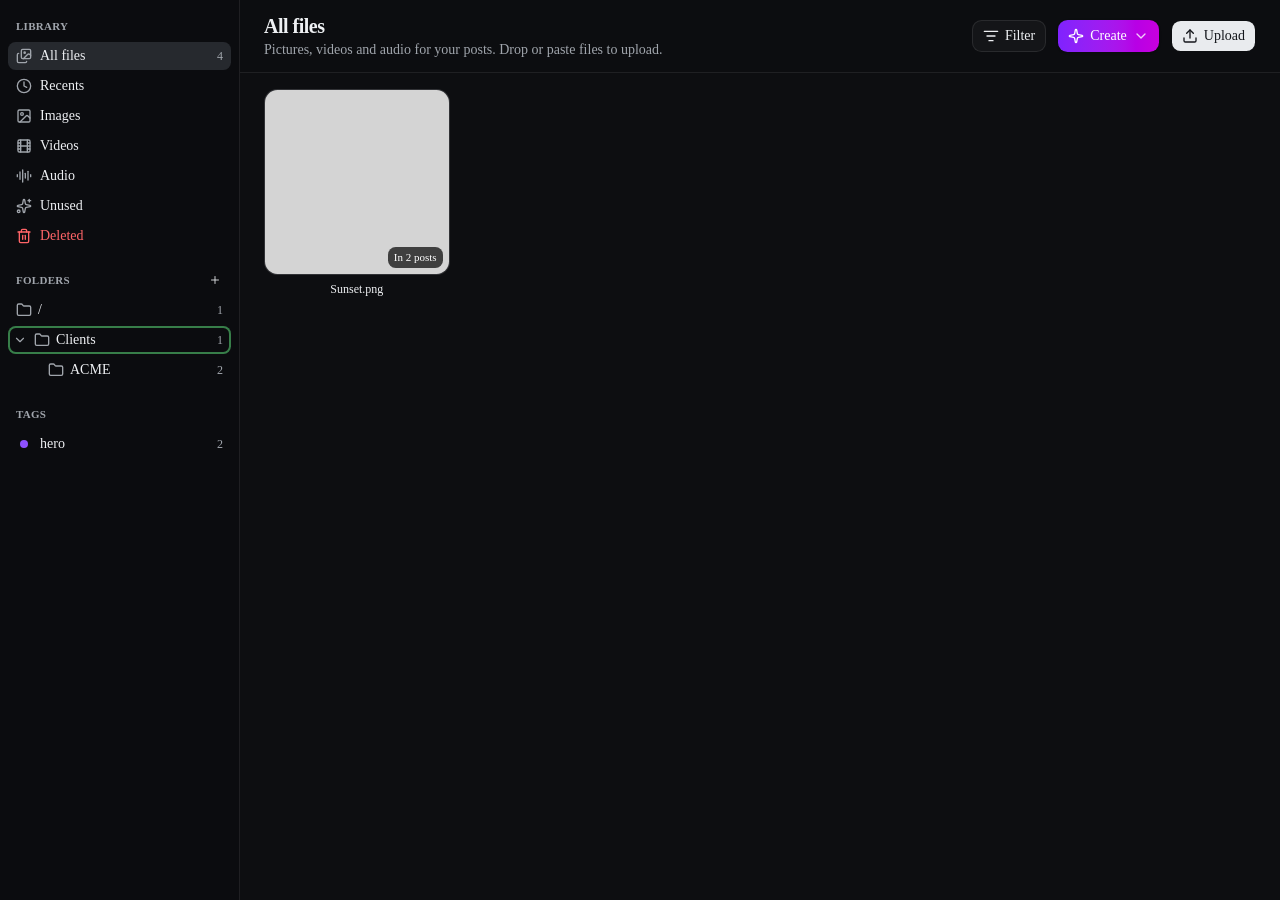
Test: media folders and tags › shows the folder tree, opens and closes it from the keyboard, filters by folder and tag
Press Arrowleft
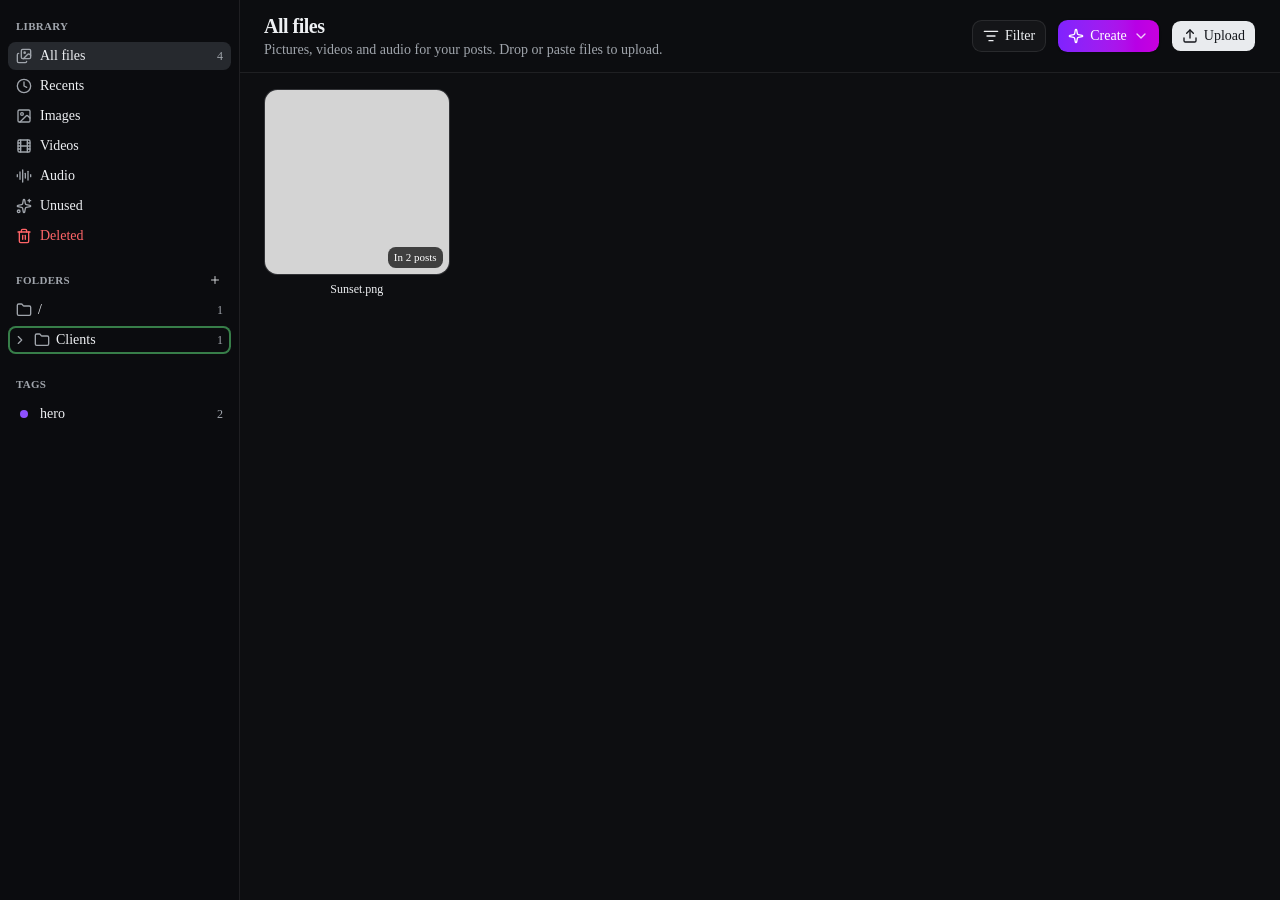
Expected: the list item "Clients 1" is collapsed, top-left (8, 326), bottom-right (231, 354)
Expected: the text "ACME" is gone
Press Arrowright Arrowdown Enter
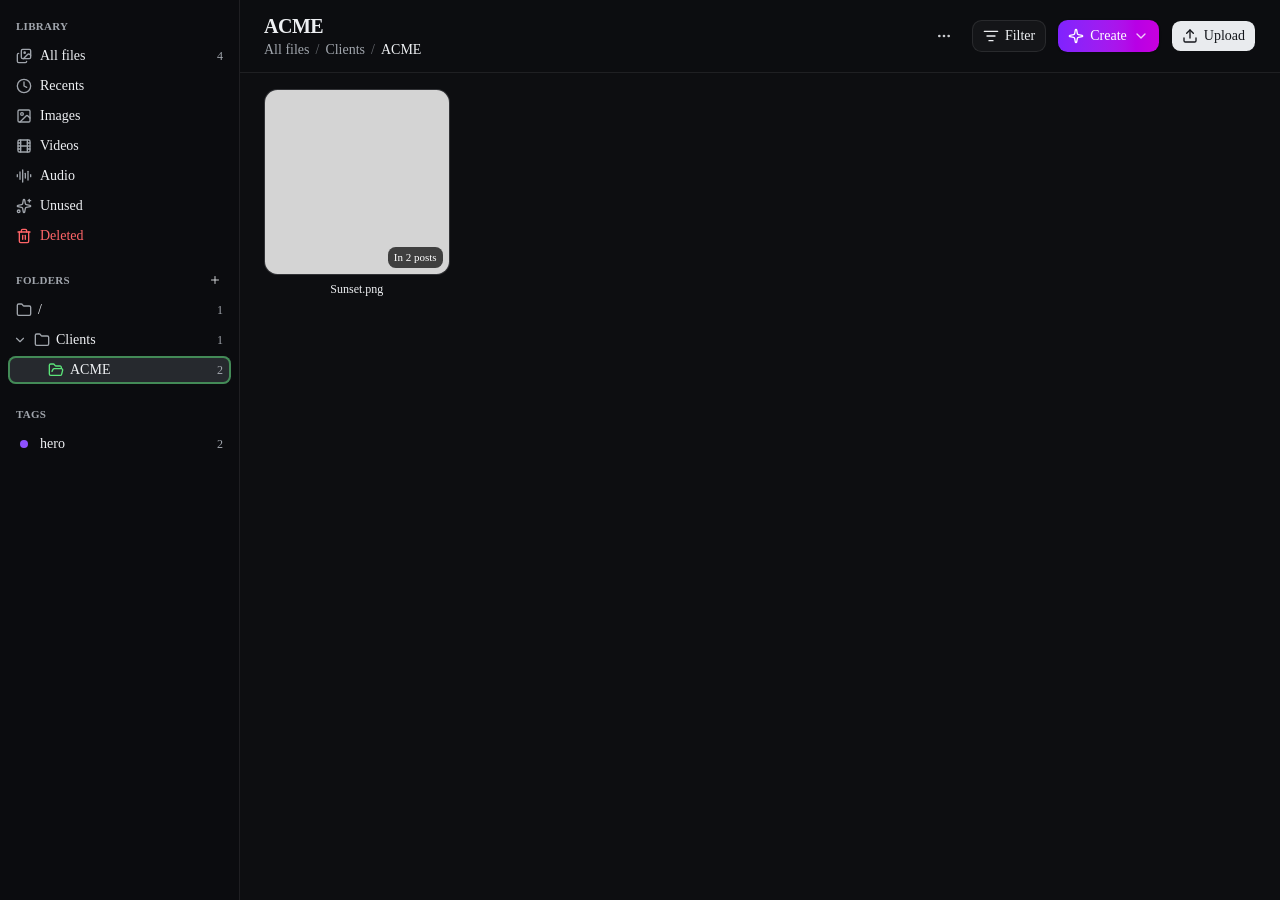
Expected: the button "All files" is shown, top-left (264, 40), bottom-right (310, 60)
Expected: the heading with test id "media-place" reads "ACME", top-left (264, 15), bottom-right (323, 37)
Expected: the button "Clients" is shown, top-left (325, 40), bottom-right (365, 60)
Click the button "hero 2": x=120, y=444 top-left (8, 430), bottom-right (231, 458)
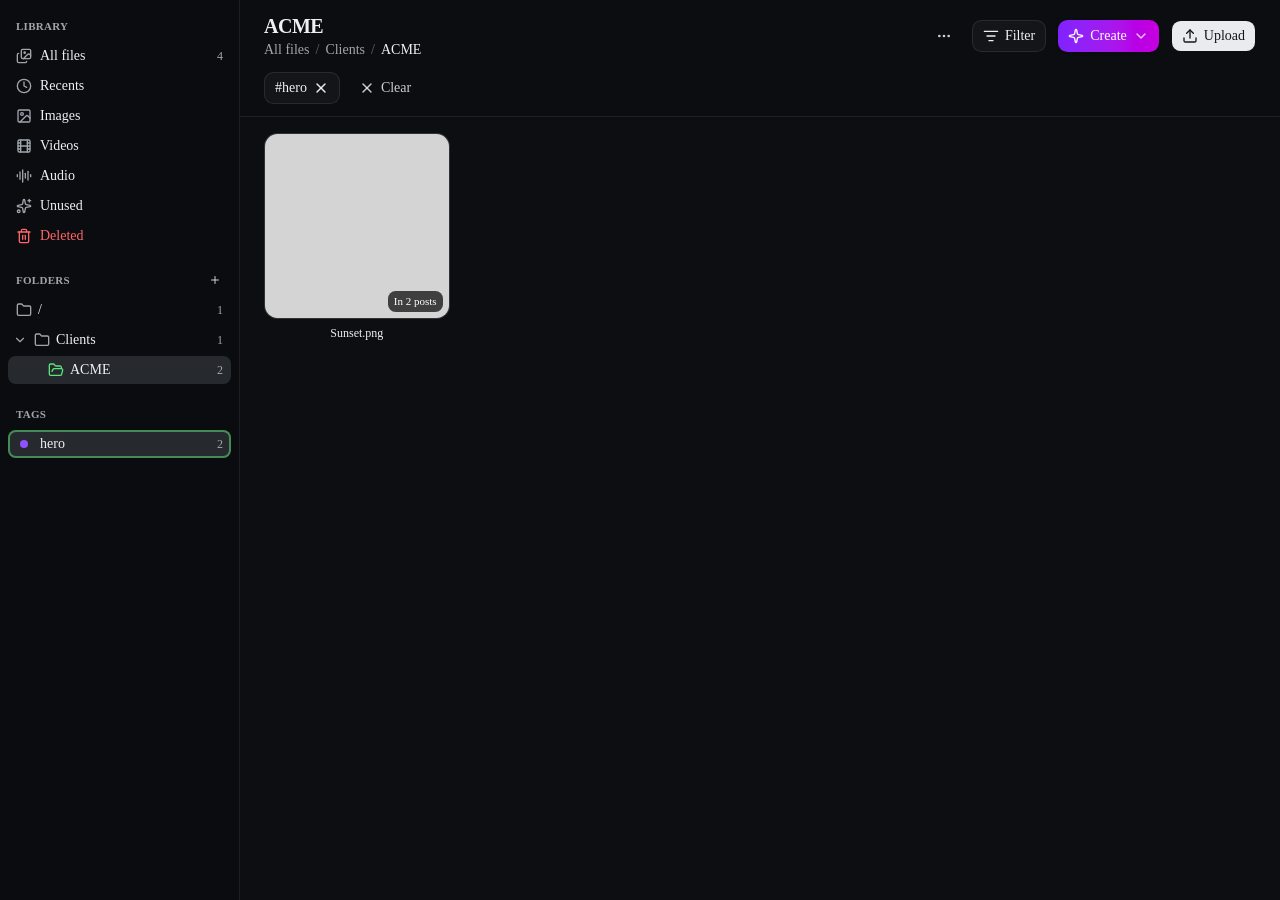
# Root lists the files in no folder.
Click the list item "/ 1": x=24, y=310 top-left (16, 302), bottom-right (223, 318)
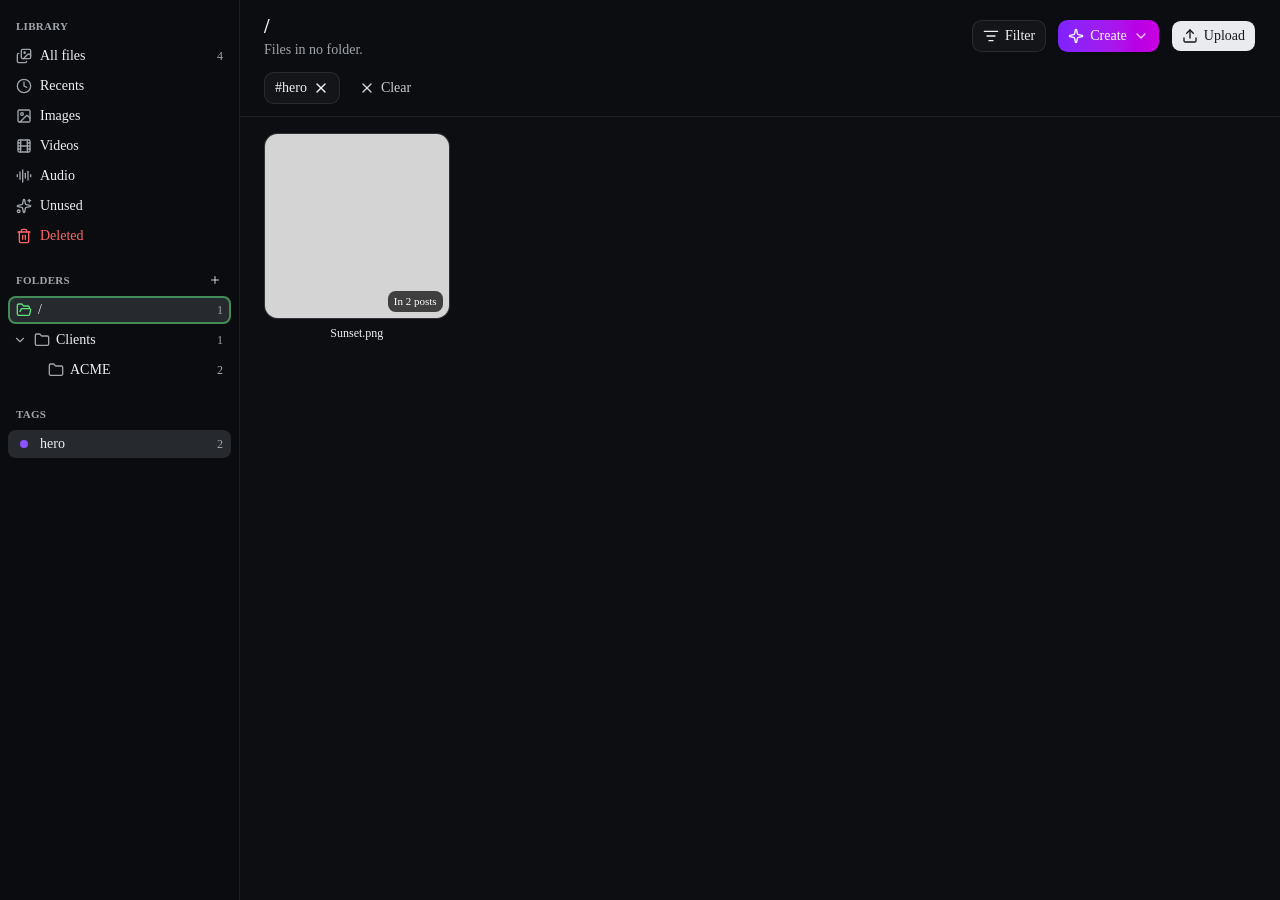
Expected: the heading with test id "media-place" reads "/", top-left (264, 15), bottom-right (269, 37)
